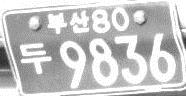0: (111, 6, 129, 31)
3: (113, 34, 148, 86)
6: (148, 31, 176, 83)
8: (88, 37, 120, 87), (91, 8, 111, 33)
9: (59, 39, 86, 89)
두: (18, 42, 52, 74)
부산_O: (46, 9, 91, 34)
